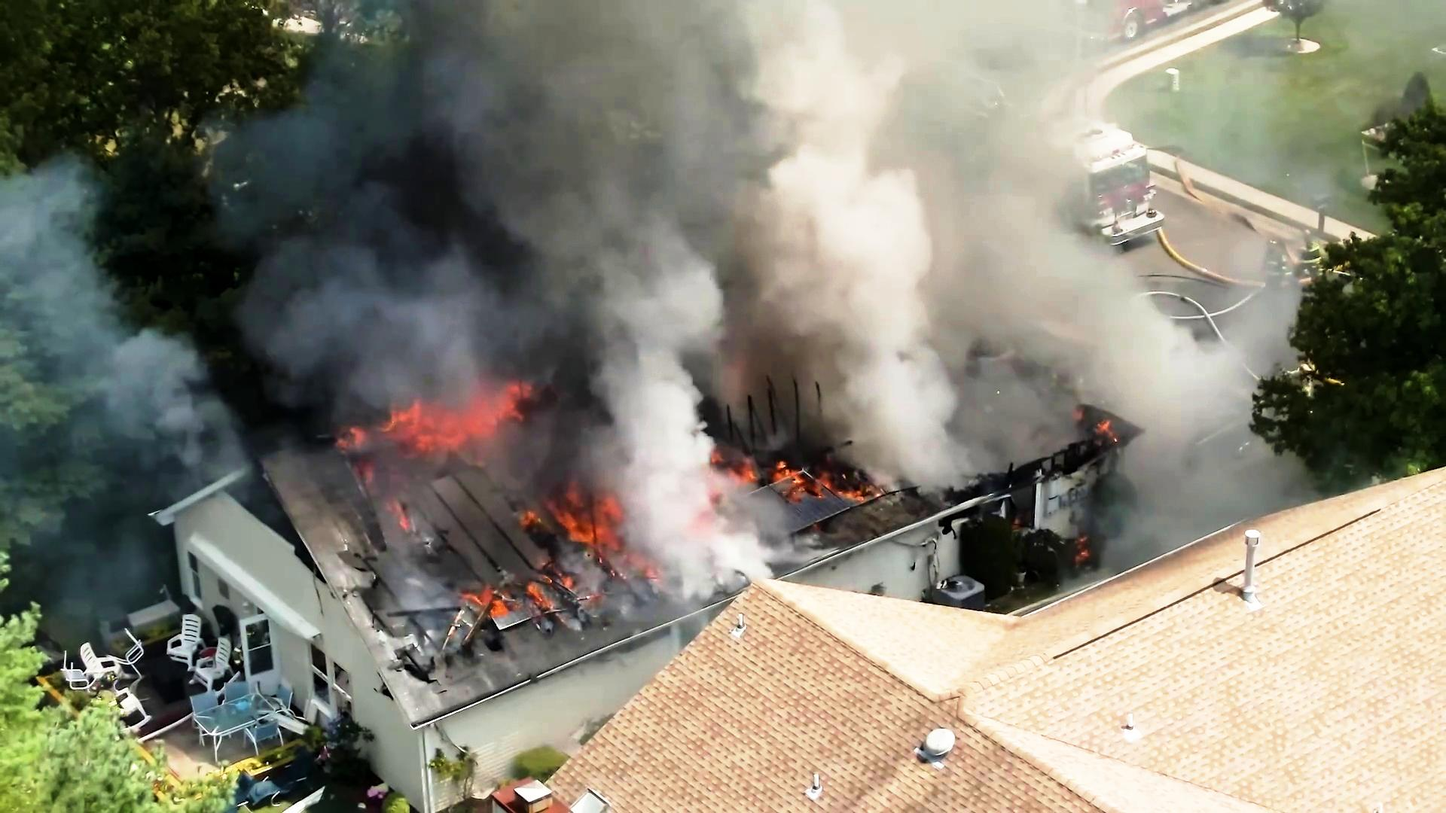smoke: (479, 0, 1061, 307), (738, 10, 969, 396), (578, 21, 700, 494)
